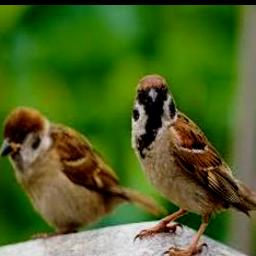Sparrow: (132, 74, 256, 256), (0, 107, 166, 239)
